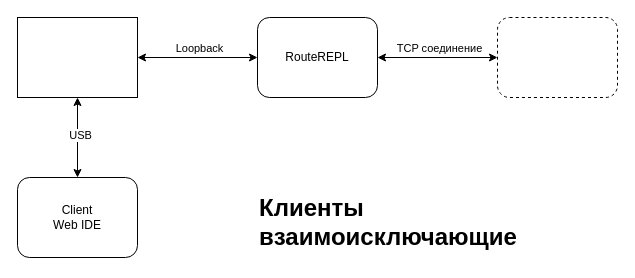
Image size: 635x278. Some labels were removed from this diagram. The shapes that lost their labels are listed below. From the top down, each one's centre as x and y in pixels, then its label:
At (x=77, y=57): "REPL".
At (x=557, y=57): "Client".
